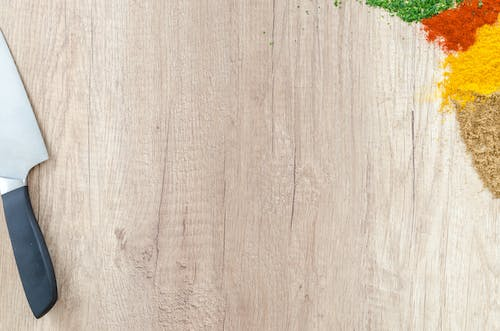knife: (0, 26, 59, 322)
